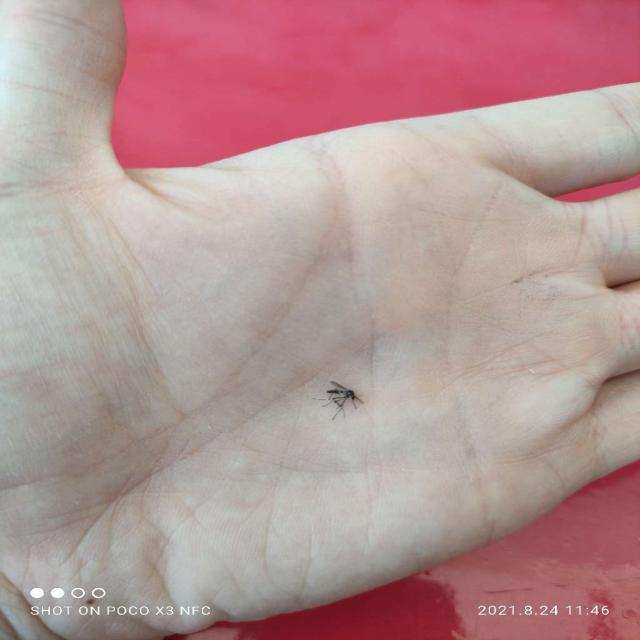albopictus: (304, 377, 370, 423)
